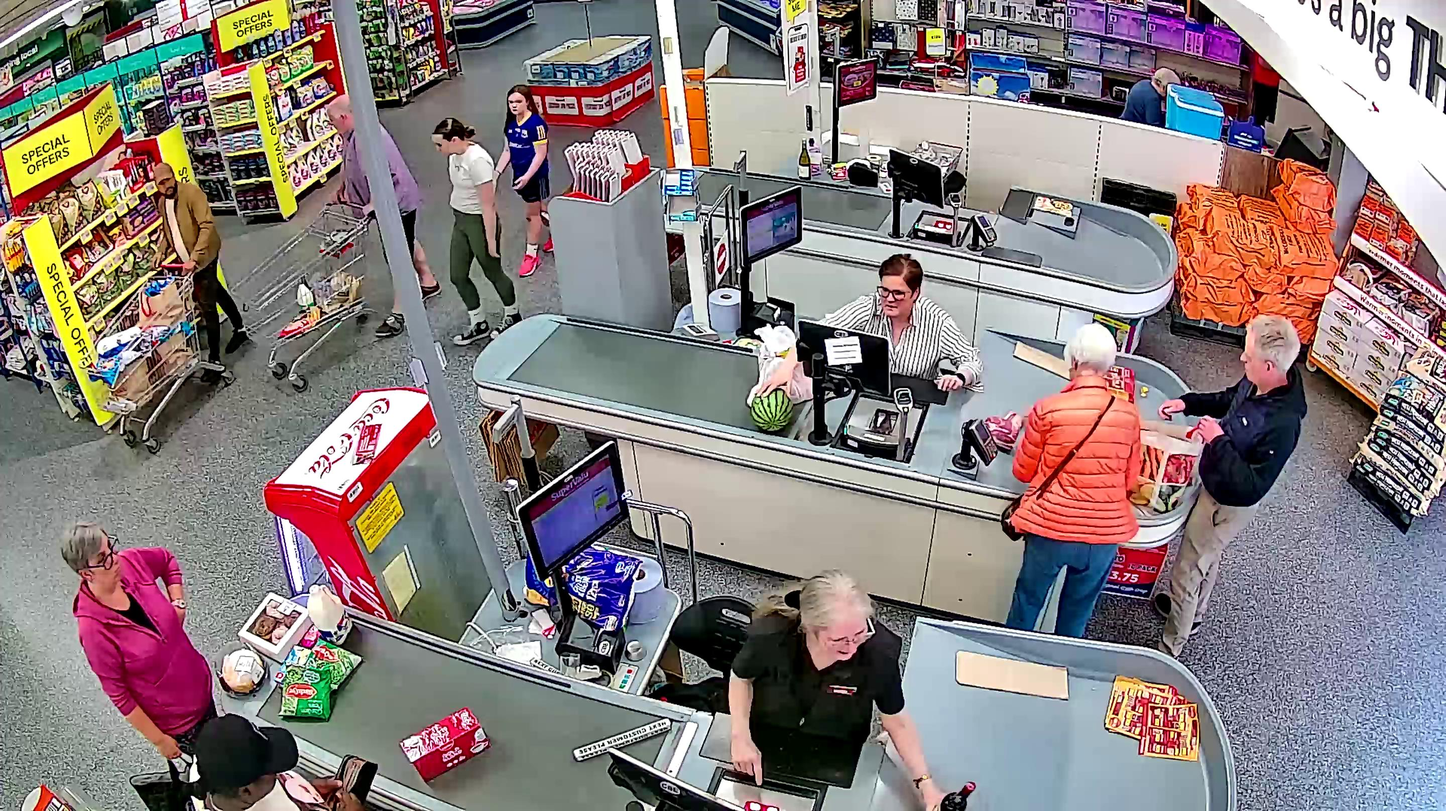filled-shopping-bags: (128, 751, 202, 811)
filled-trolly: (231, 197, 404, 391), (85, 262, 234, 455)
occupied-checkout-counter: (516, 442, 918, 811), (736, 185, 999, 479)
person: (62, 519, 210, 809), (327, 94, 441, 340), (151, 163, 247, 382)
person-with-filled-basket-trolly: (236, 94, 442, 392), (80, 161, 248, 454)
person-with-filled-shopping-bag-s-: (62, 518, 211, 811)
vacant-checkout-counter: (832, 54, 1013, 267)
